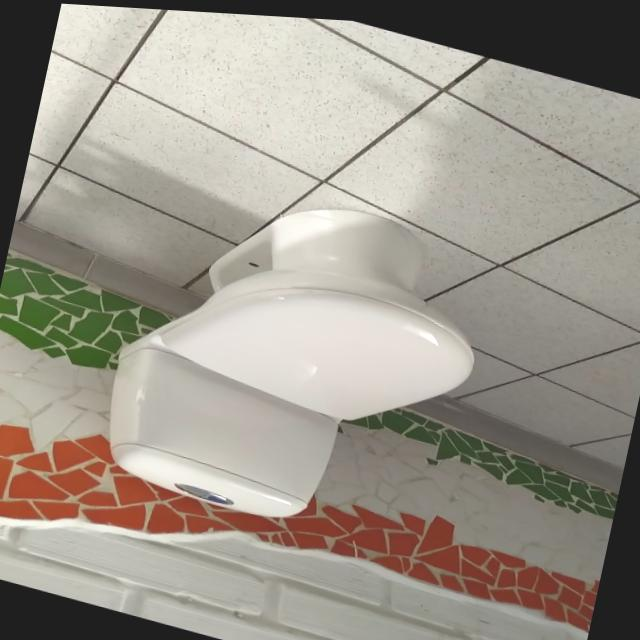toilet: (90, 150, 498, 562)
